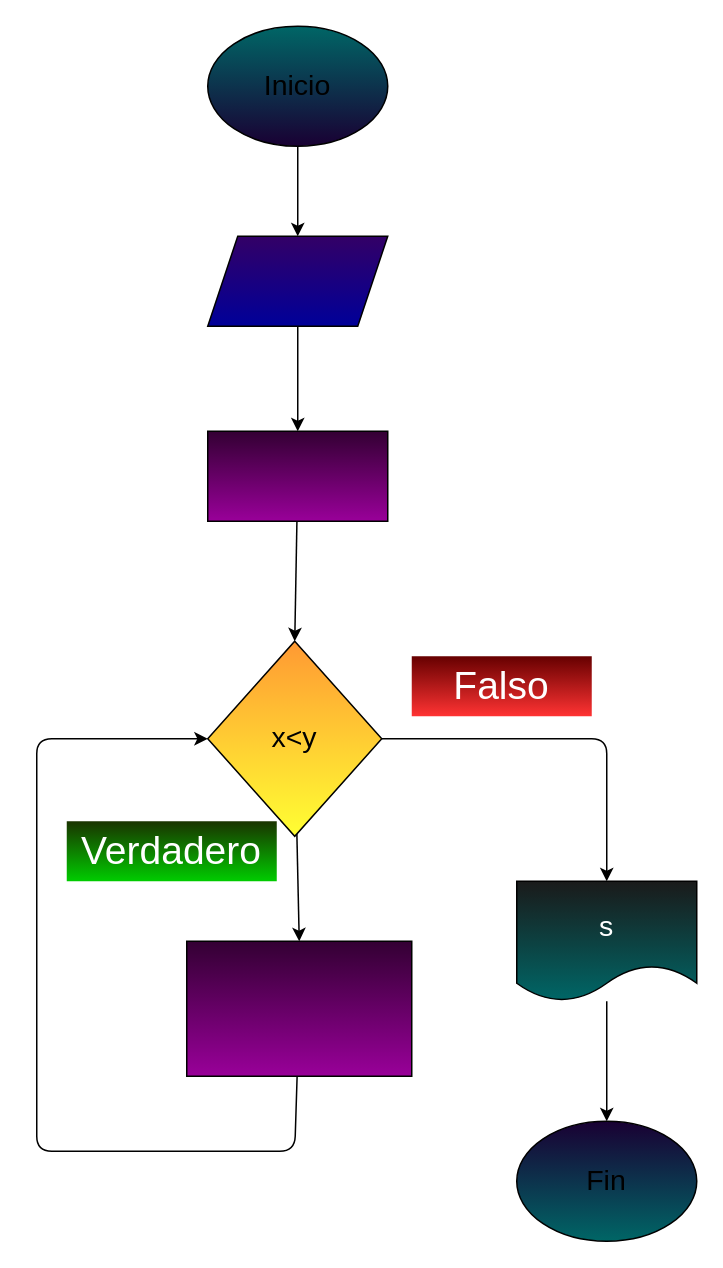
Image size: 723x1268. Some labels were removed from this diagram. Each missing label, with the centre of its shape:
s=1: the point at 297,475
x,y: the point at 297,280
x=x+1 s=s+1: the point at 298,1008
